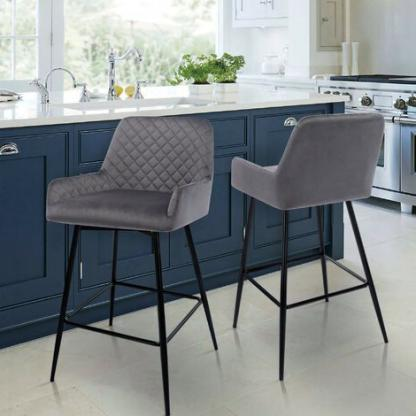chair: (40, 113, 221, 416), (231, 107, 390, 384)
table: (0, 84, 352, 348)
